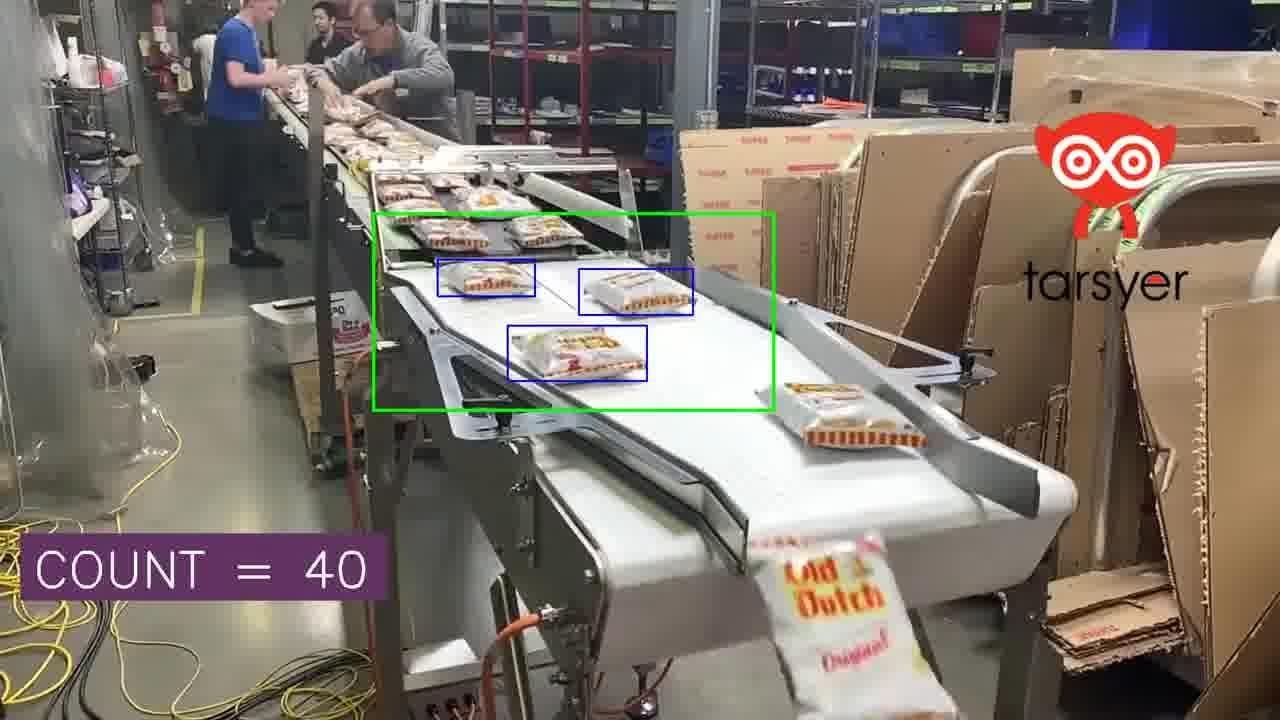Snack: (749, 533, 960, 719), (776, 384, 926, 448), (513, 328, 644, 379), (584, 270, 692, 313), (439, 261, 533, 296), (407, 218, 490, 252), (508, 215, 583, 248), (454, 187, 536, 212), (382, 199, 444, 225), (324, 96, 378, 125), (377, 178, 434, 205), (380, 134, 434, 158), (343, 140, 391, 162), (326, 134, 377, 154), (284, 71, 309, 105), (358, 118, 397, 139), (324, 123, 361, 145), (430, 173, 470, 190), (377, 170, 425, 184)
